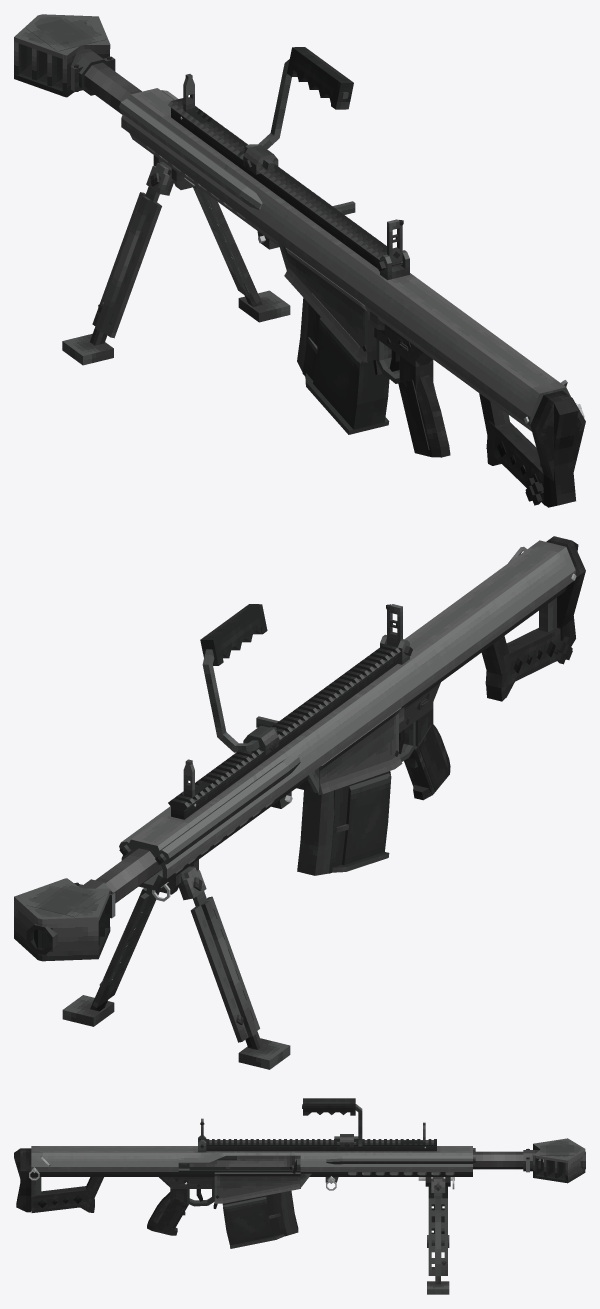
Rendered from Barrett XM109 AMPR.gltf.
3 renders of one model, top to bottom at view 1: azimuth 30°, elevation 25°; view 2: azimuth 150°, elevation 25°; view 3: azimuth 270°, elevation 25°, orthographic. The views are drawn at different scales.
Visible parts, largest first — view 1: cube (×30); view 2: cube (×26); view 3: cube (×35).
Part boxes in pixels (x1,y1,x2,y2): cube (×30): [26, 16, 578, 505]; cube (×26): [14, 540, 585, 1069]; cube (×35): [20, 1098, 585, 1294].
Bounding box in the file's own units: 2.91 × 4.45 × 12.87.
Materials: 1 (1 with a texture image).
